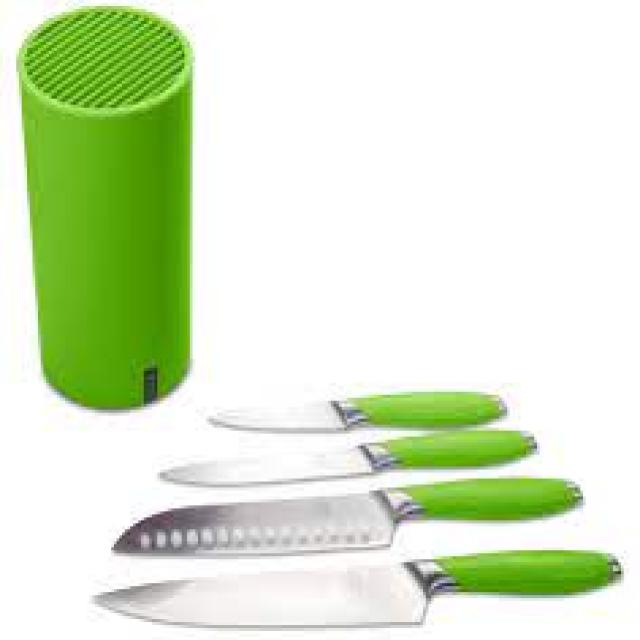Knife: (99, 478, 629, 640)
